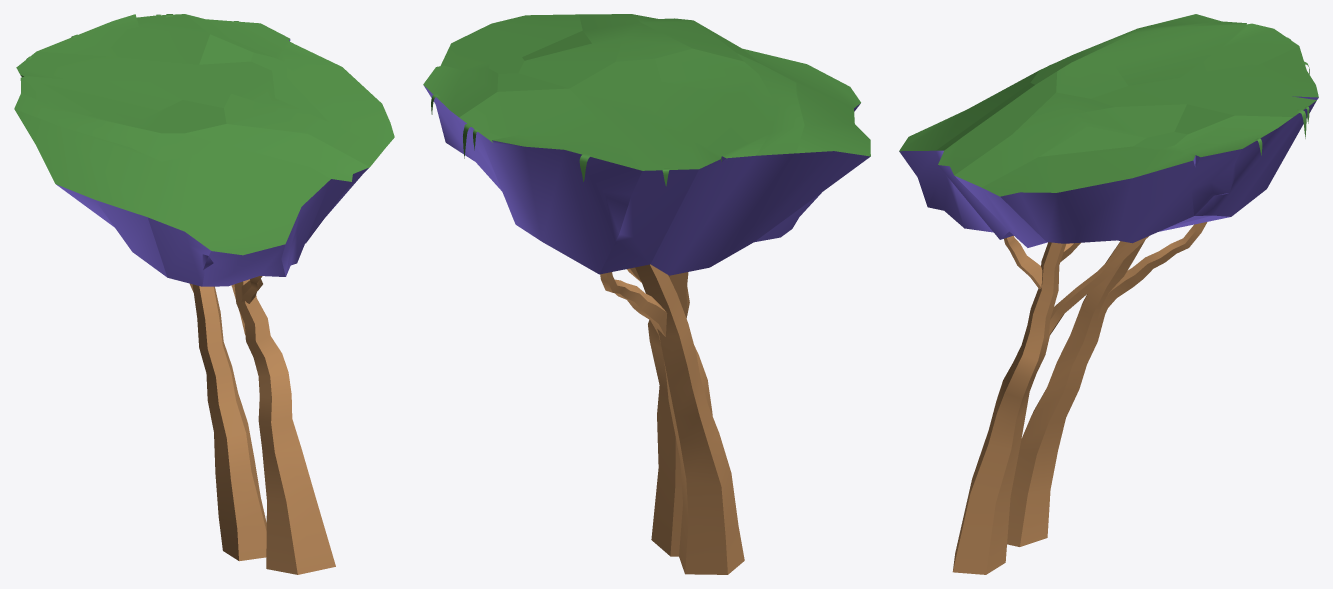
File: tree_F_canopy_B_solo.fbx
3 renders of one model, left to right at view 1: azimuth 30°, elevation 25°; view 2: azimuth 150°, elevation 25°; view 3: azimuth 270°, elevation 25°, orthographic. The views are drawn at different scales.
Visible parts, largest first — view 1: tree_F_canopy_B, tree_F_canopy_B_trunk_A, tree_F_canopy_B_trunk_A1; view 2: tree_F_canopy_B, tree_F_canopy_B_trunk_A1, tree_F_canopy_B_trunk_A, tree_F_canopy_B_trunk_B1; view 3: tree_F_canopy_B, tree_F_canopy_B_trunk_A, tree_F_canopy_B_trunk_A1, tree_F_canopy_B_trunk_B1, tree_F_canopy_B_trunk_C, tree_F_canopy_B_trunk_B.
Boxes of the visible parts, x1,y1,x2,y2 form: tree_F_canopy_B: (14, 14, 394, 286); tree_F_canopy_B_trunk_A: (234, 279, 335, 574); tree_F_canopy_B_trunk_A1: (192, 284, 266, 561); tree_F_canopy_B: (423, 14, 870, 275); tree_F_canopy_B_trunk_A1: (635, 264, 744, 574); tree_F_canopy_B_trunk_A: (648, 272, 712, 556); tree_F_canopy_B_trunk_B1: (600, 272, 667, 336); tree_F_canopy_B: (899, 14, 1318, 247); tree_F_canopy_B_trunk_A: (952, 242, 1066, 574); tree_F_canopy_B_trunk_A1: (1007, 240, 1144, 546); tree_F_canopy_B_trunk_B1: (1098, 222, 1207, 318); tree_F_canopy_B_trunk_C: (1048, 236, 1148, 335); tree_F_canopy_B_trunk_B: (1004, 235, 1042, 289).
Size of the model in its own units: 474 by 633 by 522.
